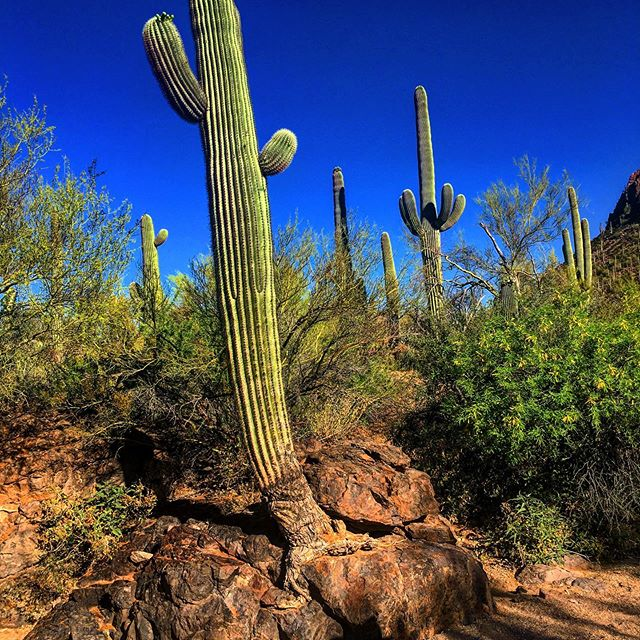cactus: (144, 1, 340, 497), (399, 76, 458, 322), (552, 190, 601, 313), (330, 165, 369, 276), (371, 233, 408, 332)
rocks: (51, 436, 488, 640)
sky: (1, 1, 637, 265)
vegetation: (402, 269, 625, 545)
